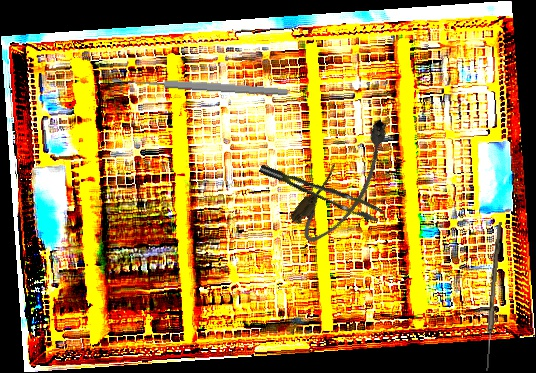Cannula: (284, 113, 409, 251)
Surgical Spoon: (110, 74, 289, 98), (484, 221, 502, 372)
Tissue Forceps: (258, 148, 384, 234)
